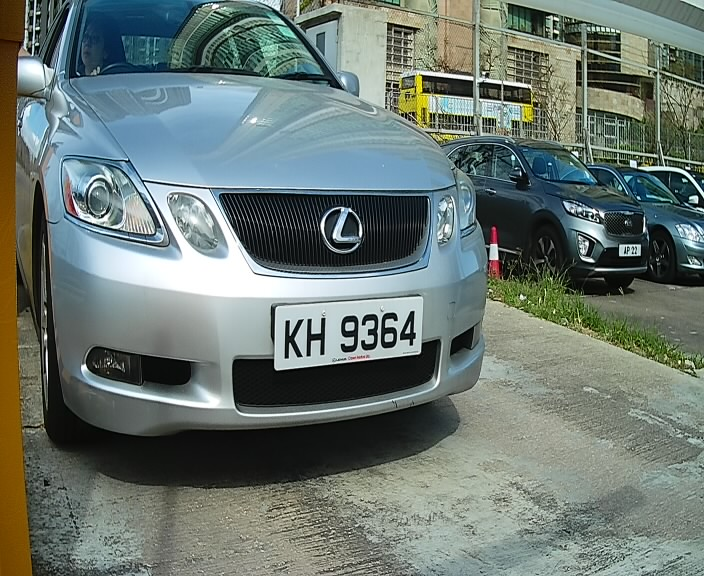Car: (2, 2, 506, 496)
License Plate: (264, 291, 430, 376)
